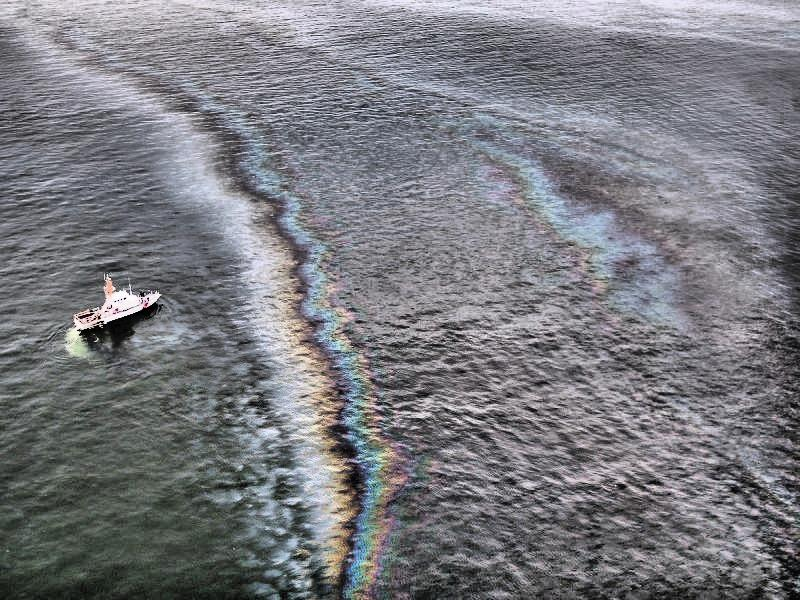rainbow: (52, 29, 411, 599), (435, 116, 717, 337)
sheen: (168, 109, 344, 590)
